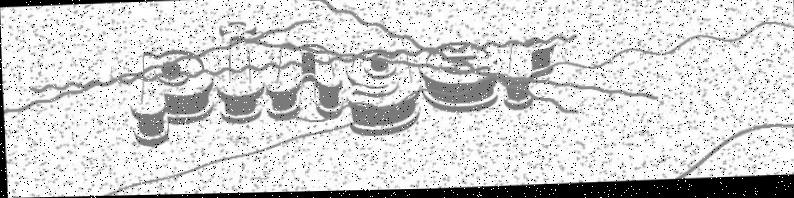e: (416, 41, 499, 117)
g: (343, 44, 422, 139)
i: (206, 18, 263, 126)
n: (260, 34, 345, 125)
p: (117, 44, 219, 150)
r: (499, 36, 557, 115)
